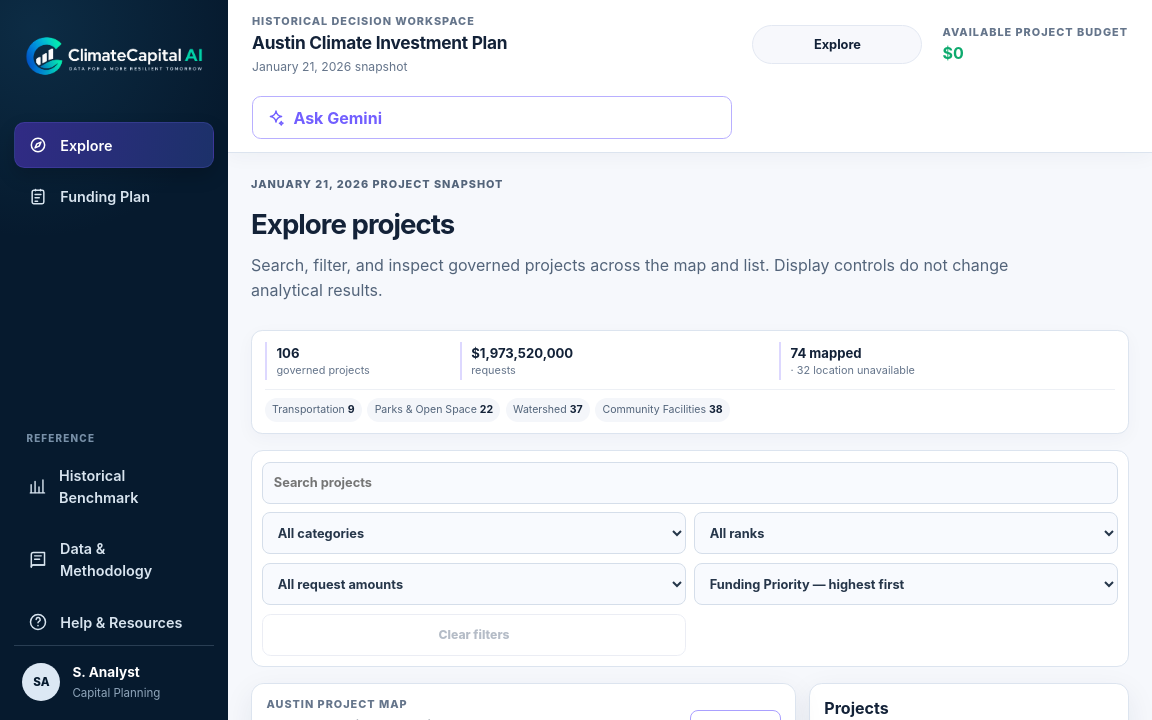
Scenario: ClimateCapital application shell › loads the Historical Benchmark only when its dedicated route is entered
The image size is (1152, 720).
Expected: the heading "Explore projects" is shown, [251,207,454,241]
Click the link "Historical Benchmark" at (83, 486), box [28,467,138,506]
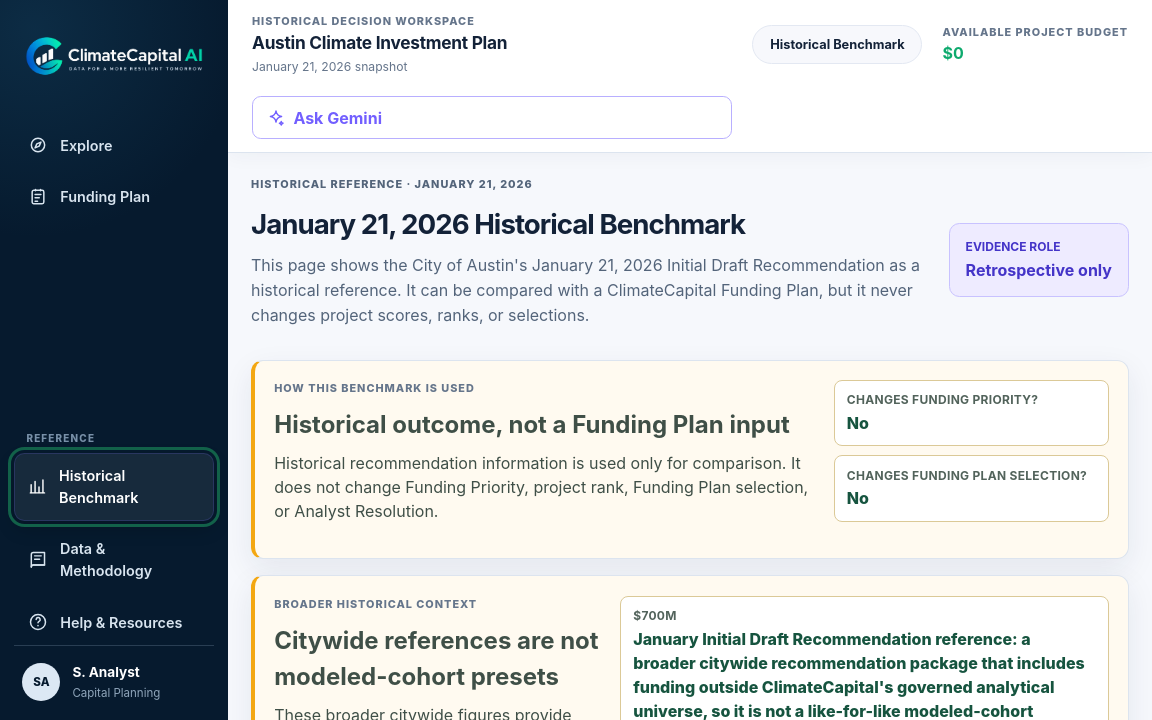
Result: the heading "January 21, 2026 Historical Benchmark" is shown at [251,207,745,241]
